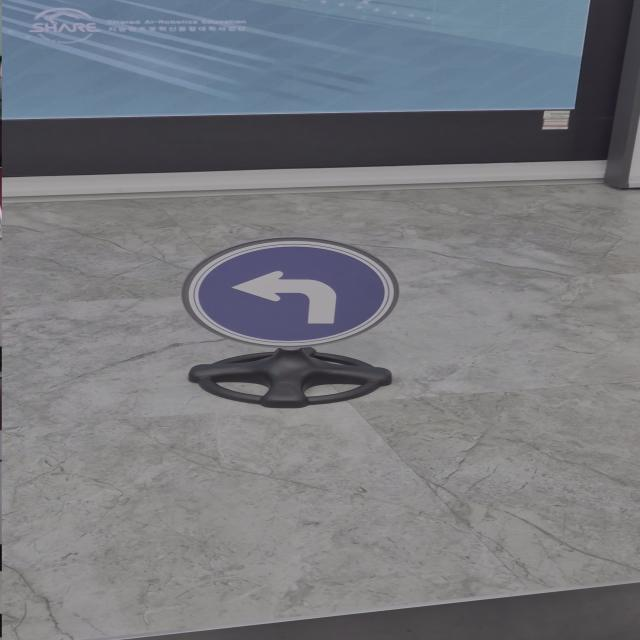left_direction: (179, 228, 440, 368)
